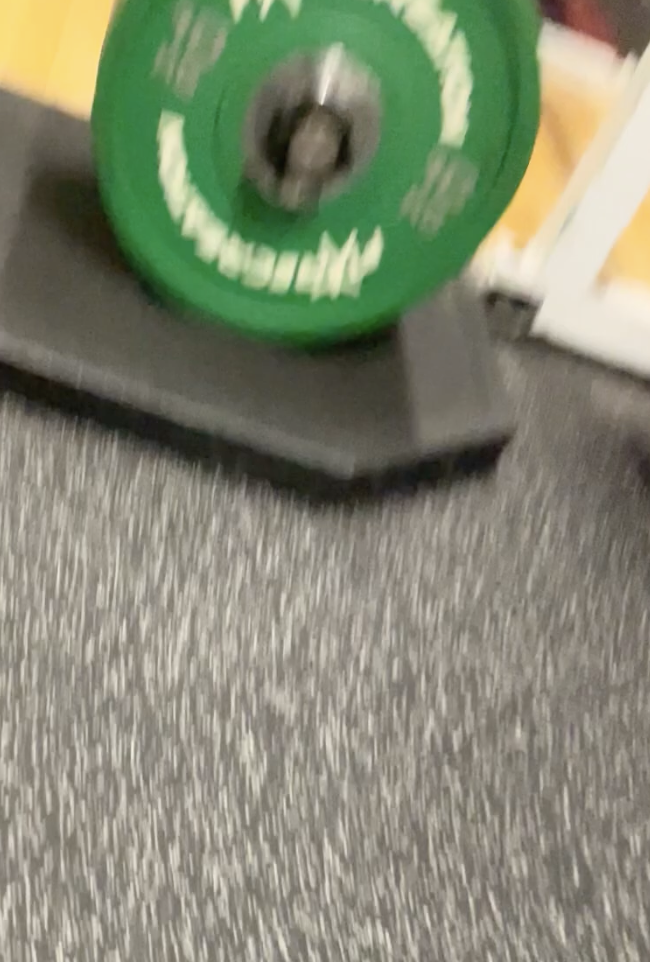barbell: (277, 96, 352, 188)
